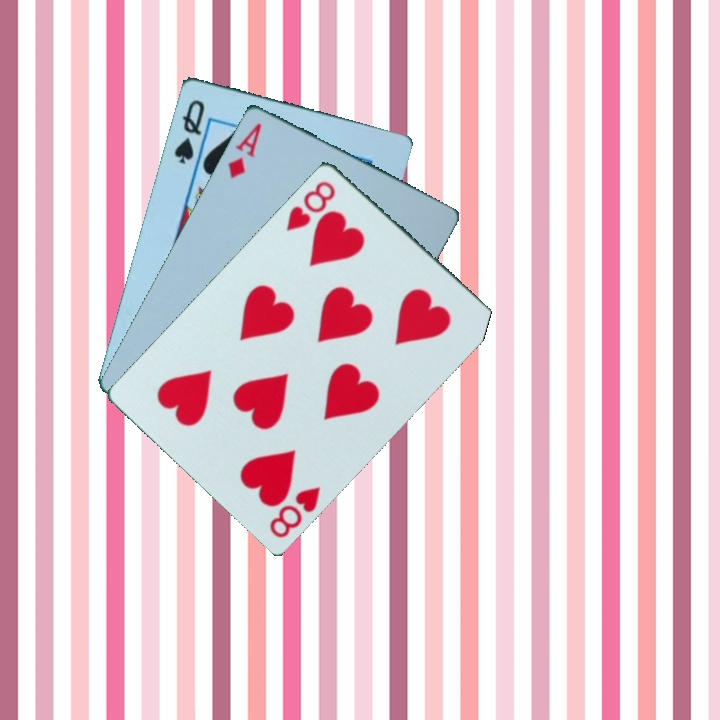8h: (265, 482, 324, 541), (282, 176, 339, 234)
Ad: (224, 118, 265, 182)
Qs: (170, 95, 208, 165)
